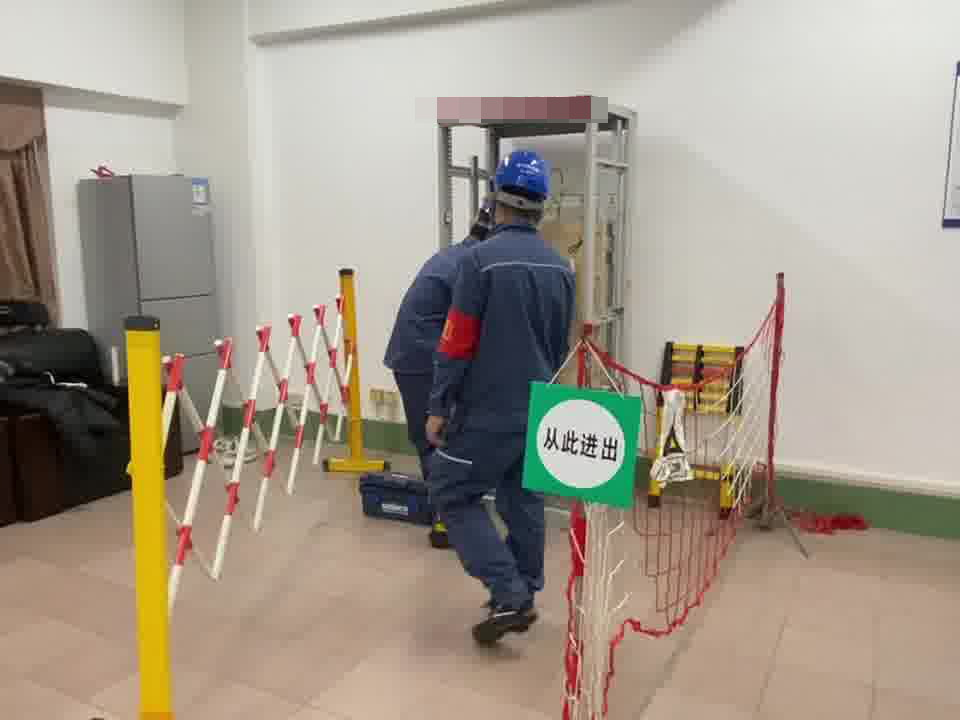badge: (436, 308, 484, 363)
downsuit: (424, 438, 544, 605), (394, 369, 438, 491)
halt: (481, 148, 554, 229)
hand: (426, 414, 449, 444)
intosign: (525, 378, 640, 510)
person: (431, 144, 582, 648), (384, 193, 497, 540)
upsuit: (425, 222, 579, 448), (387, 240, 477, 379)
